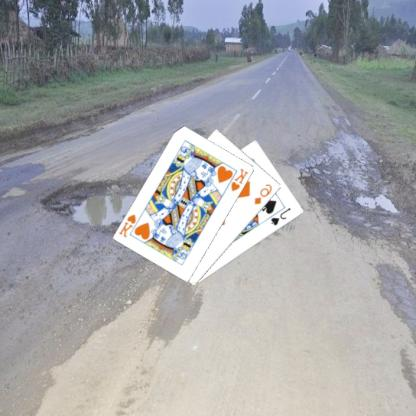6D: (254, 182, 276, 206)
JS: (270, 205, 294, 227)
KH: (118, 211, 140, 239), (230, 166, 252, 192)
